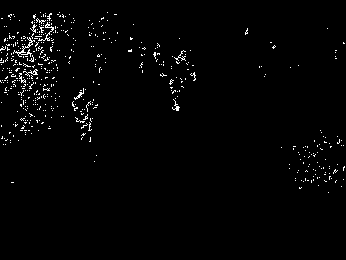person: (166, 56, 192, 110), (72, 87, 95, 144)
